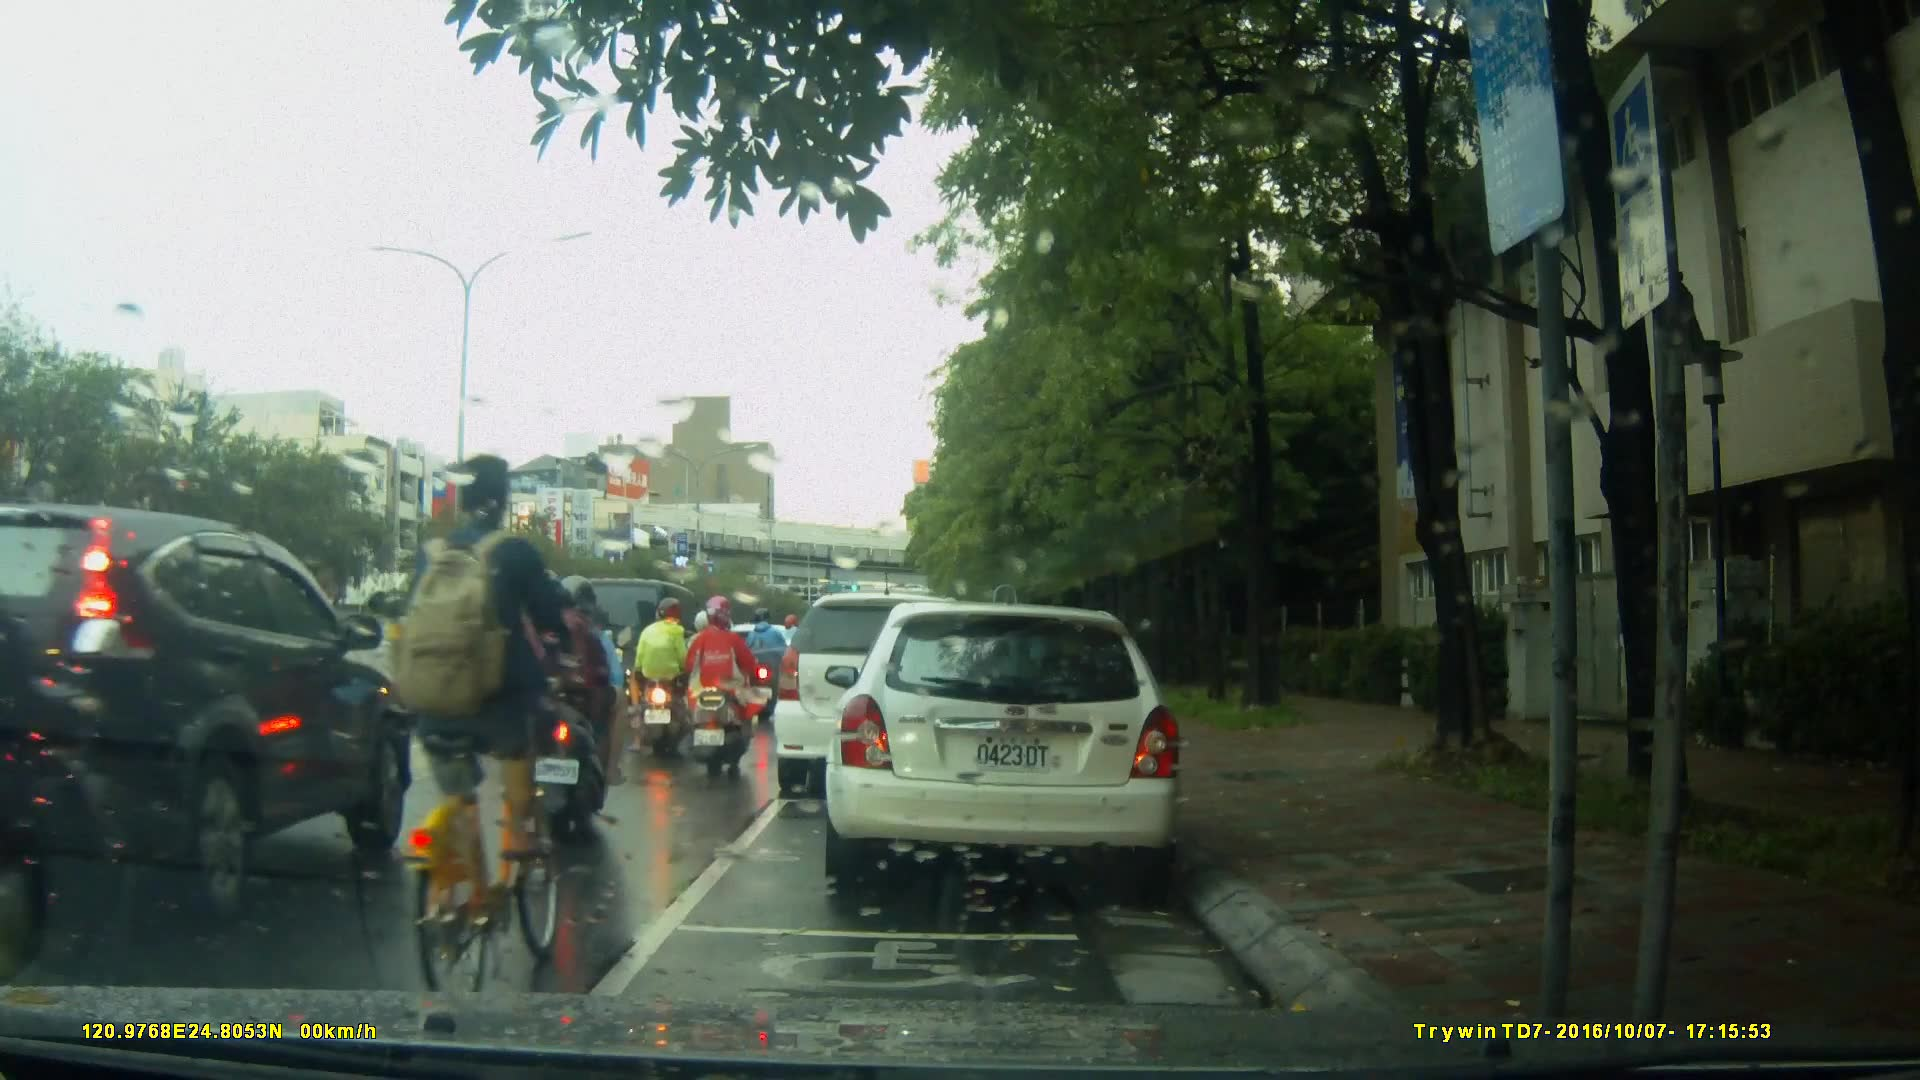rider: (397, 454, 589, 1006), (524, 573, 628, 840), (677, 596, 752, 778), (633, 600, 706, 759), (463, 601, 528, 732), (676, 603, 743, 729), (745, 600, 796, 728)
vehicle: (2, 504, 410, 937), (822, 604, 1188, 883), (774, 595, 995, 802), (310, 610, 520, 726)
